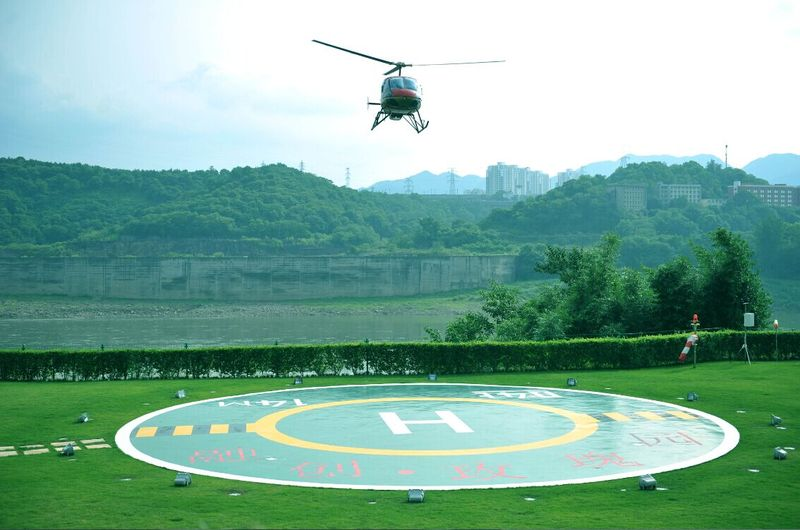H: (380, 412, 474, 435)
